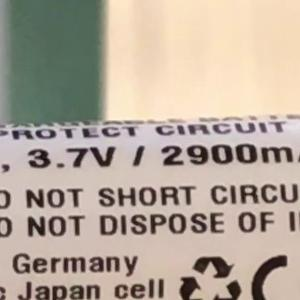3.7V: (18, 137, 121, 178)
